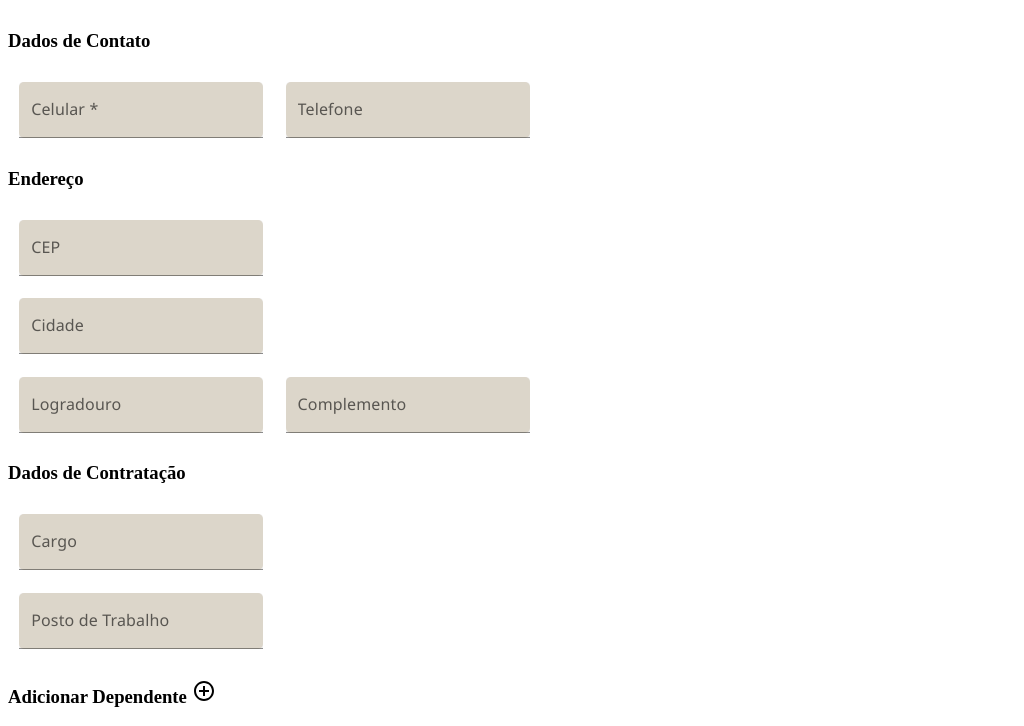
it: MemberShip Component › should handle opening add a dependent correctly
The width and height of the screenshot is (1024, 726).
(page scrolled)
# Click on the "Add Dependent" button
Click the icon with test id "AddCircleOutlineIcon".
click(204, 691)  # box x1=192 y1=679 x2=216 y2=703
(page scrolled)
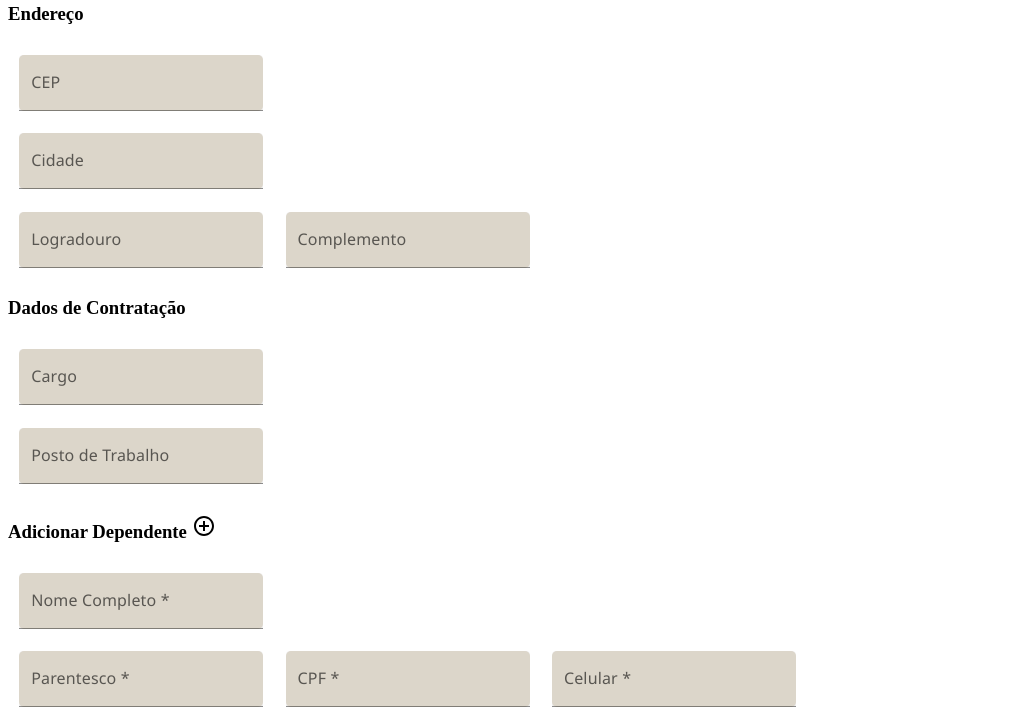
expect the field labelled "Parentesco *" is shown: met, box x1=19 y1=651 x2=263 y2=707
